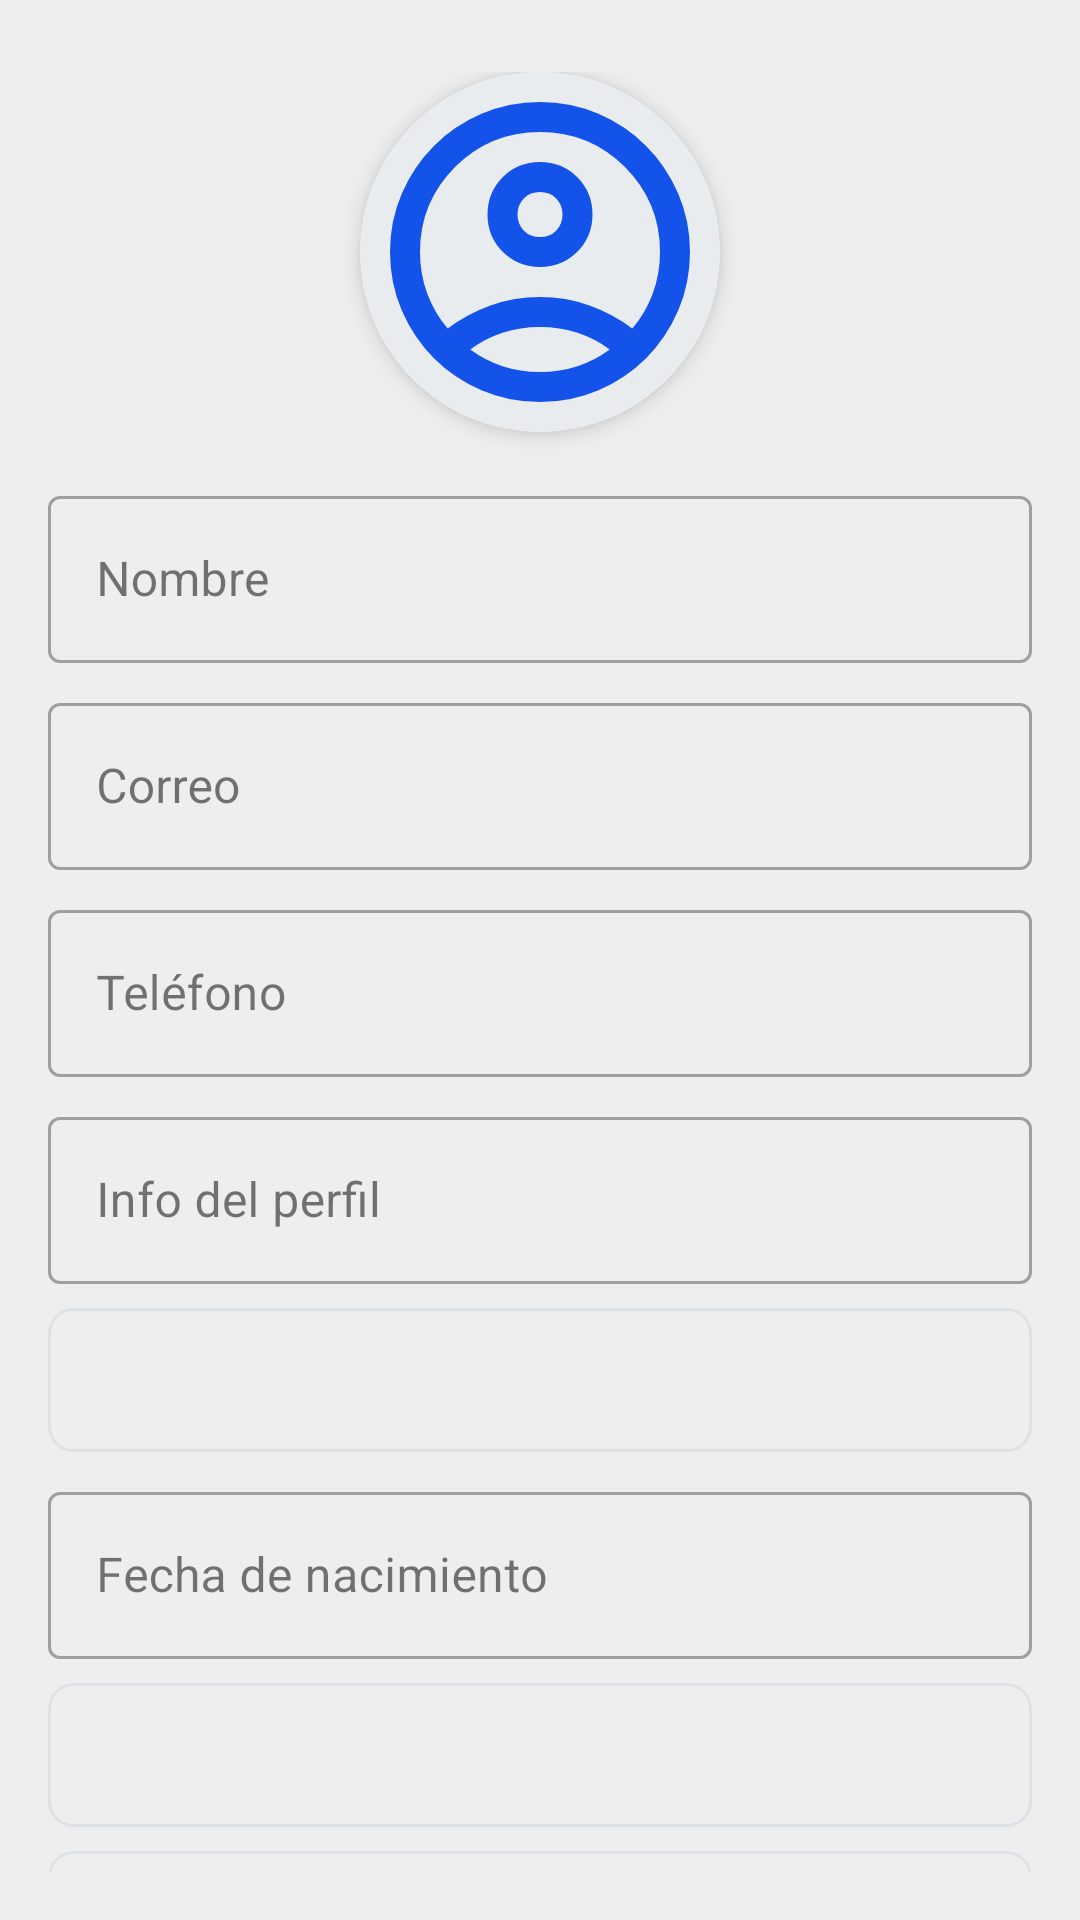

Named icons in this screenshot (1080w x 1920h) and their centers, point (x, y):
Foto de perfil: point (540, 267)
